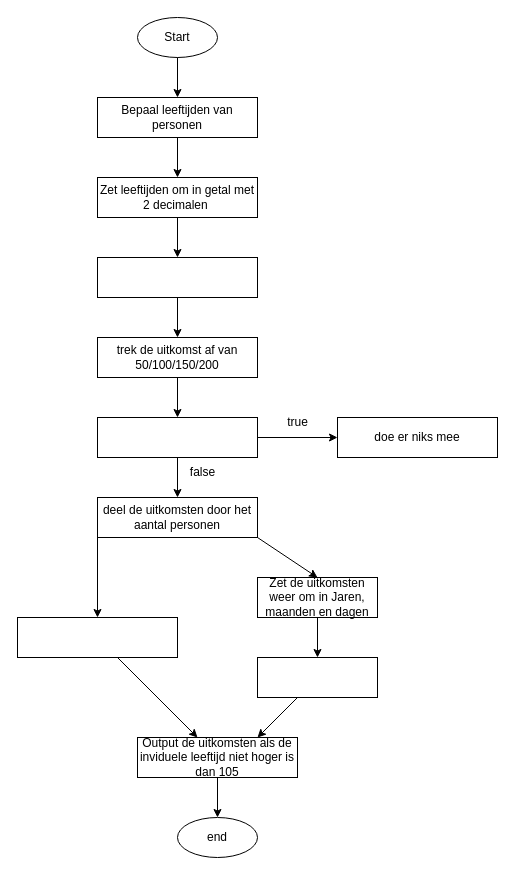
Image size: 515x875. Some labels were removed from this diagram. The shapes that lost their labels are listed below. From the top down, each one's box as (x1, y1, x2, y2) in pixels, then its label:
(96, 256, 258, 298): Maak som van de getallen
(96, 416, 258, 458): Is de uitkomst lager dan 0
(16, 616, 178, 658): tel de uitkomsten op bij de leeftijden van deindividuele personen
(256, 656, 378, 698): tel de uitkomsten op bij de huidige datum
